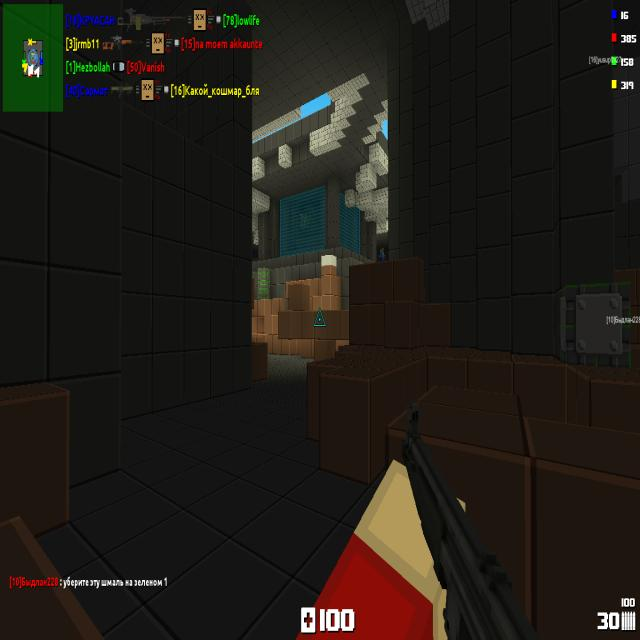enemy: (379, 247, 385, 262)
